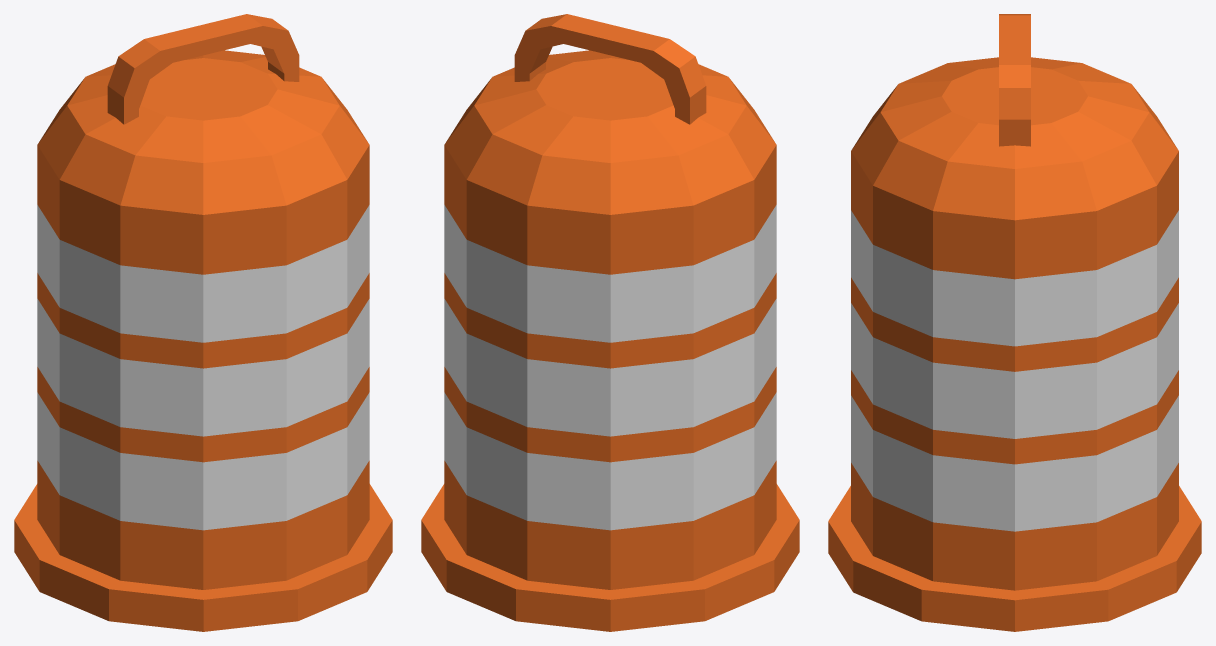
Rendered from grosCone.fbx.
3 renders of one model, left to right at view 1: azimuth 30°, elevation 25°; view 2: azimuth 150°, elevation 25°; view 3: azimuth 270°, elevation 25°, orthographic.
Parts seen in each view (by area): view 1: Cylinder.011; view 2: Cylinder.011; view 3: Cylinder.011.
Part boxes in pixels (x1,y1,x2,y2): Cylinder.011: (14,14,392,631); Cylinder.011: (421,14,799,631); Cylinder.011: (828,14,1201,631).
Size of the model in its own units: 228 by 345 by 228.
Materials: 1 (1 with a texture image).
